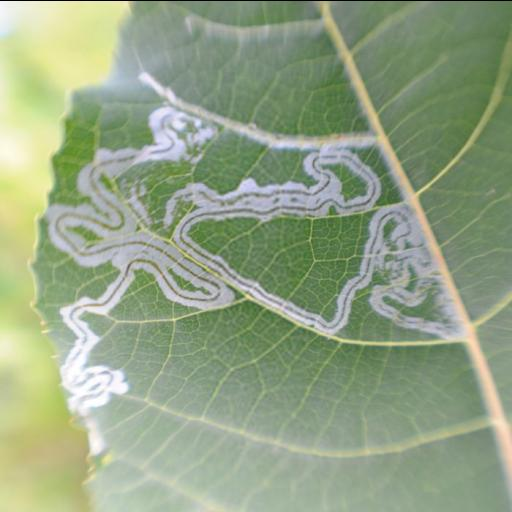disease_tomato: (28, 0, 512, 512)
